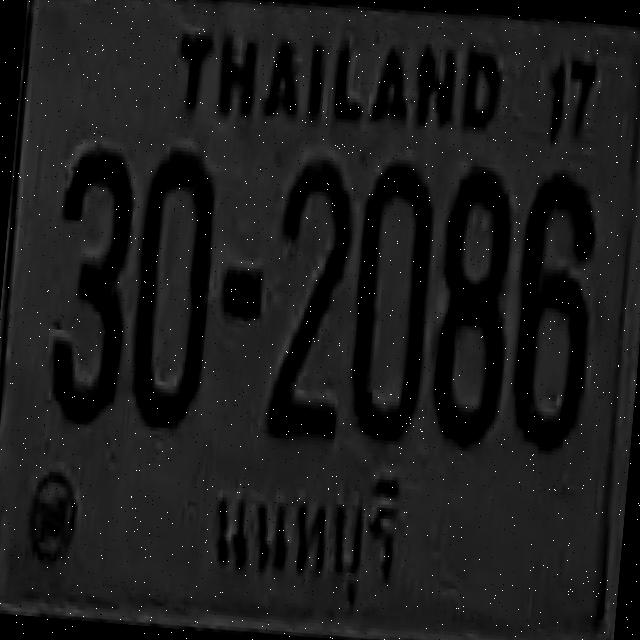0: (124, 144, 220, 427), (343, 158, 437, 441)
2: (264, 156, 356, 442)
3: (42, 144, 138, 423)
6: (503, 166, 599, 450)
8: (425, 162, 517, 444)
Nonthaburi: (196, 446, 417, 616)
